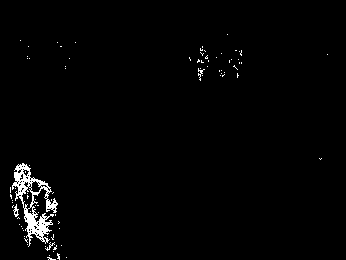person: (8, 163, 62, 260)
